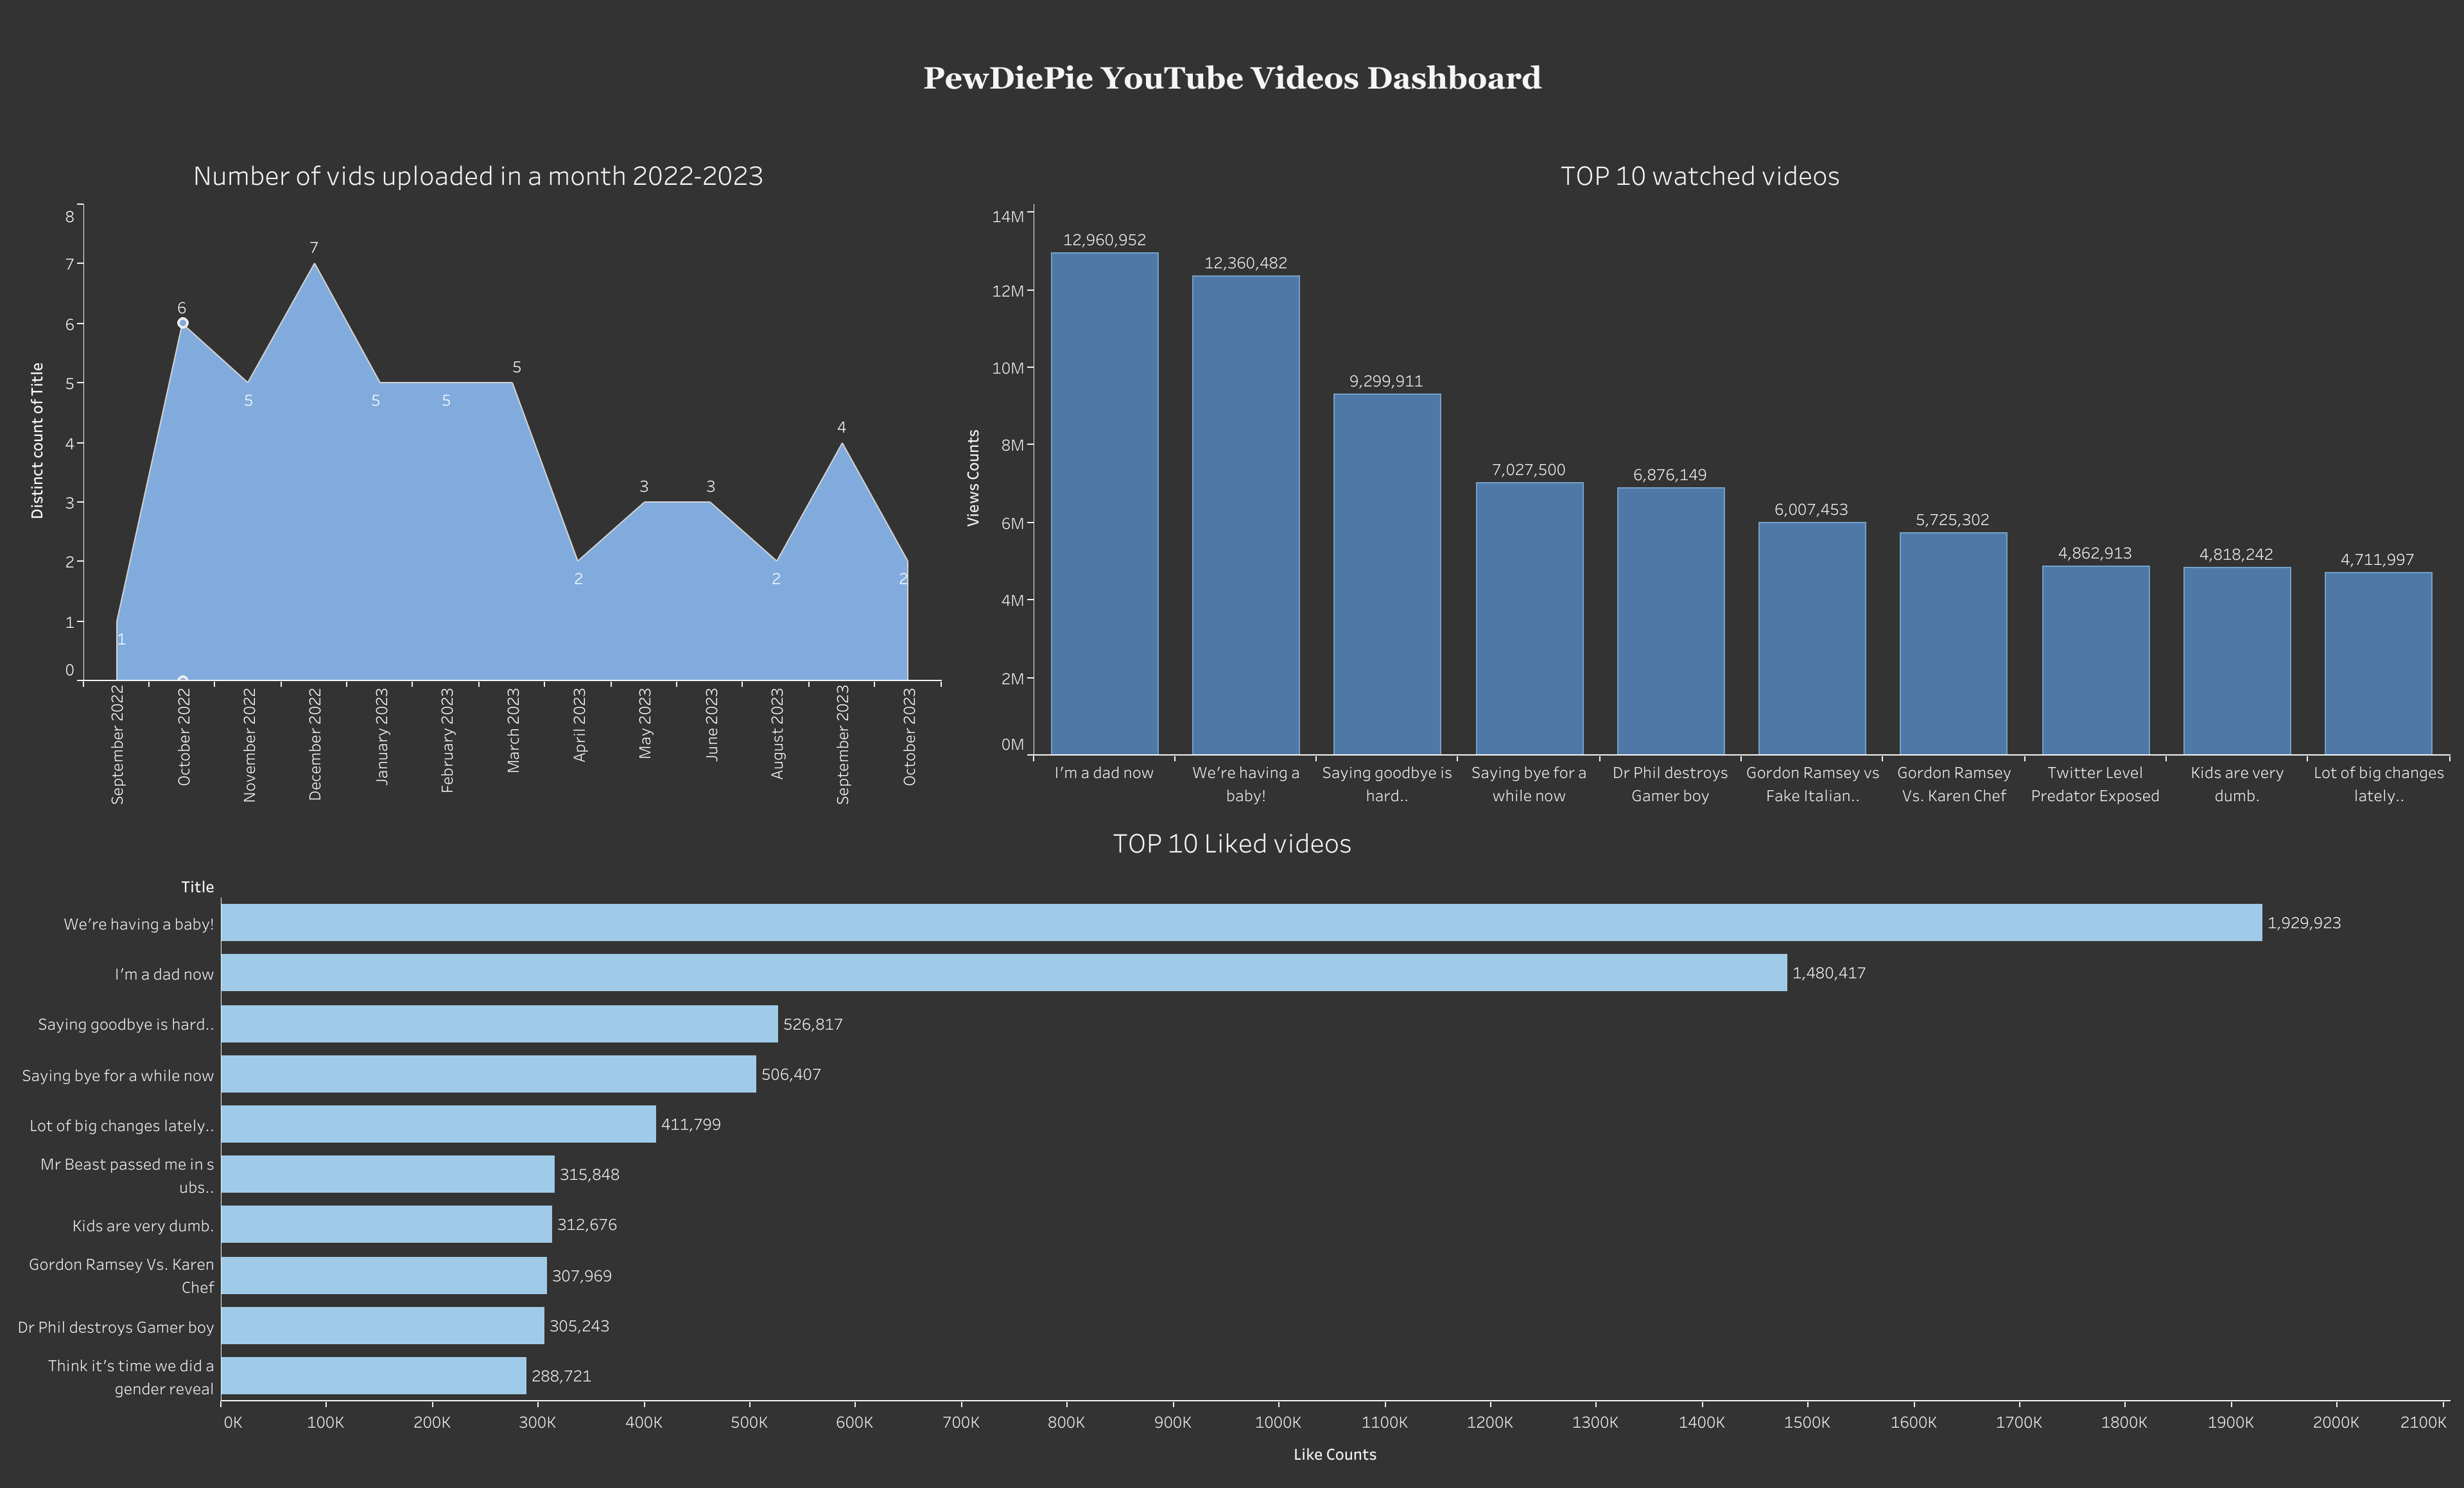

The dashboard page shown, as its layout file describes it:
{"tool":"tableau","page":{"name":"Dashboard 1","canvas":[1920,1160],"ordinal":0},"visuals":[{"type":"title","box":[8,8,1904,104]},{"type":"worksheet","title":"Number of vids uploaded in a month","mark":"Area","rows":["Title"],"cols":["PublishedAt"],"box":[8,112,729,520]},{"type":"worksheet","title":"TOP10 watched vids","mark":"Automatic","rows":["ViewsCounts"],"cols":["Title"],"box":[737,112,1175,520]},{"type":"worksheet","title":"TOP10 liked vids","mark":"Automatic","rows":["Title"],"cols":["LikeCounts"],"box":[8,632,1904,520]}]}

Visuals, with their boxes in screenshot pixels (x1, y1, x2, y2), scaled from the page's 1920x1160 canvas onto the 2464x1488 screenshot:
title: [x1=10, y1=10, x2=2454, y2=144]
"Number of vids uploaded in a month" worksheet (Area marks): [x1=10, y1=144, x2=946, y2=811]
"TOP10 watched vids" worksheet: [x1=946, y1=144, x2=2454, y2=811]
"TOP10 liked vids" worksheet: [x1=10, y1=811, x2=2454, y2=1478]
